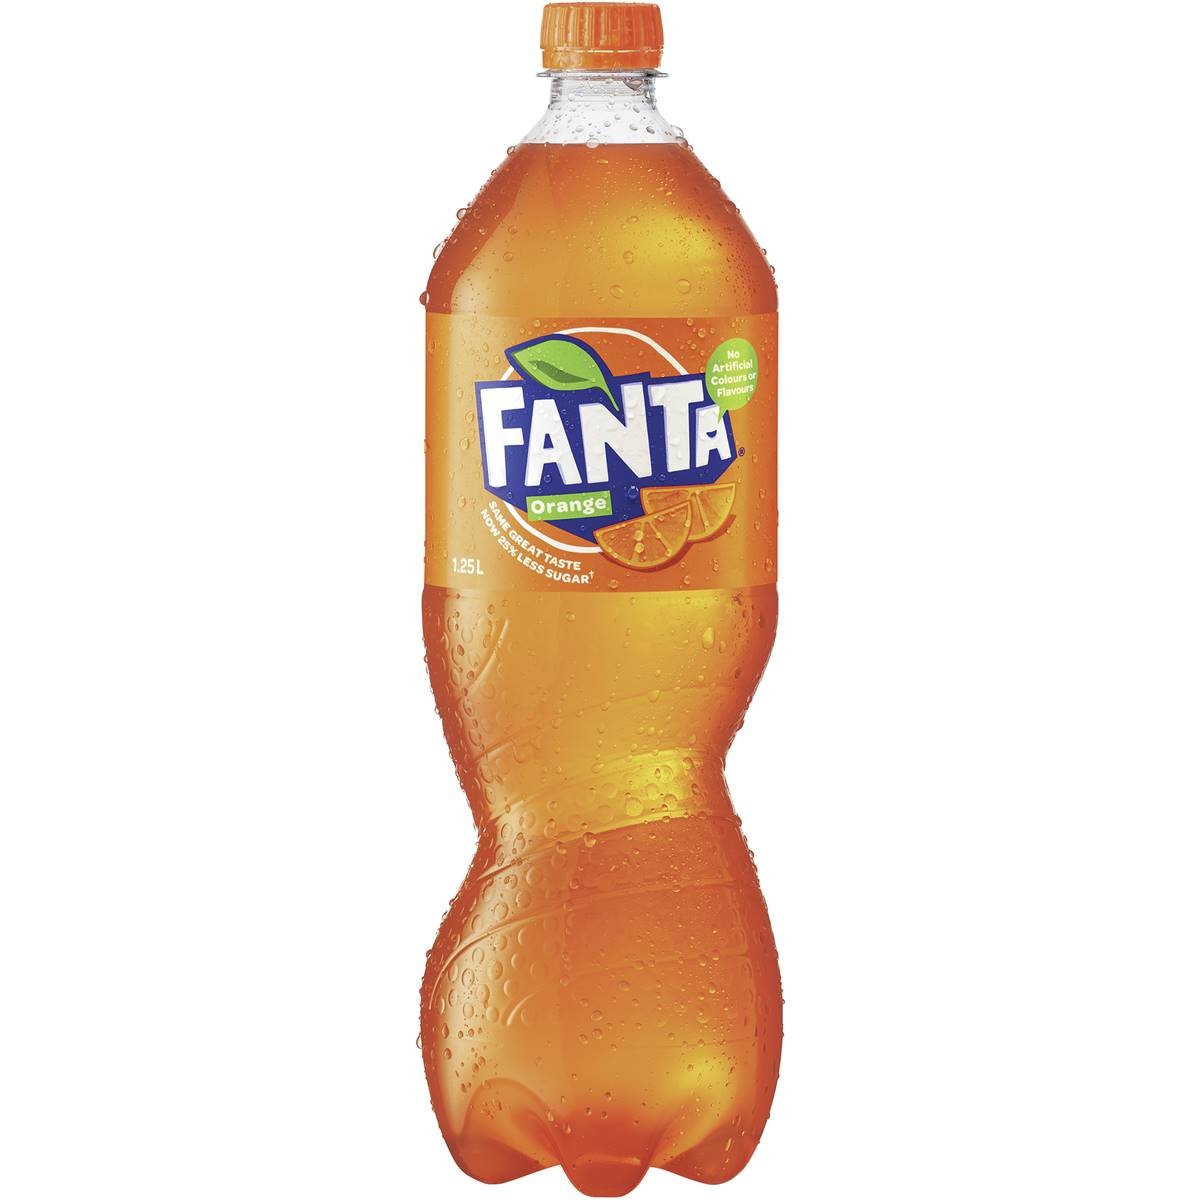Fanta: (368, 24, 837, 1196)
